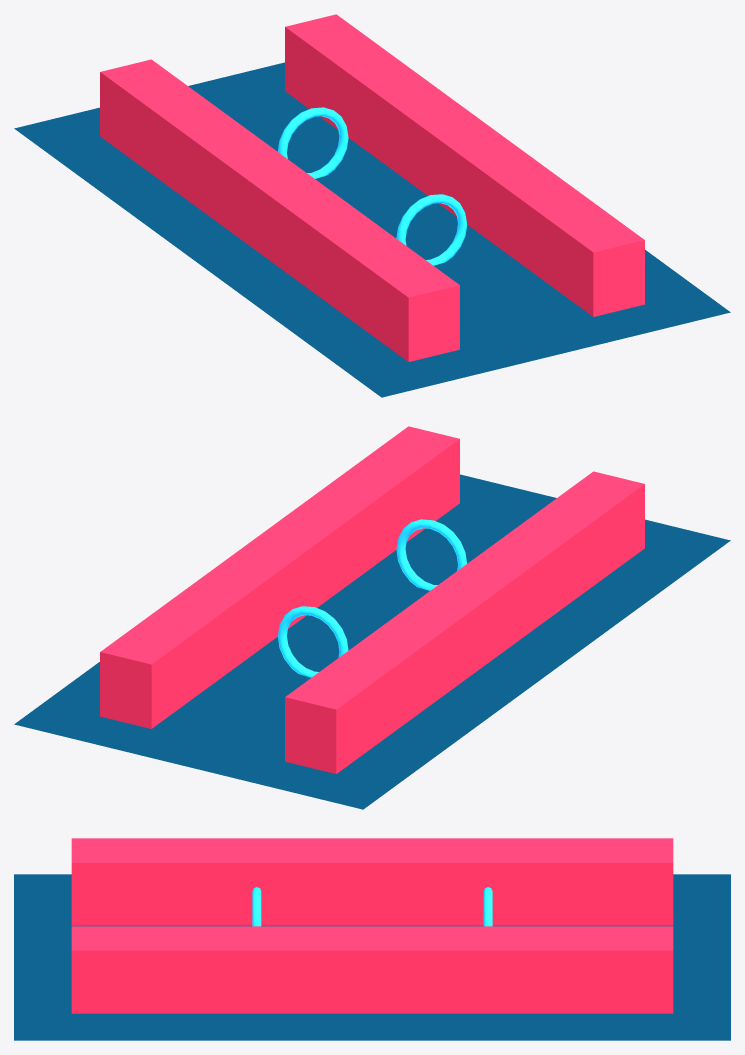
Rendered from atl_04.glb.
The picture shows the model from 3 angles, top to bottom: view 1: azimuth 30°, elevation 25°; view 2: azimuth 150°, elevation 25°; view 3: azimuth 270°, elevation 25°; orthographic projection. The views are drawn at different scales.
Parts seen in each view (by area): view 1: ATL_04, scenario_base_floor; view 2: ATL_04, scenario_base_floor; view 3: ATL_04, scenario_base_floor.
Part boxes in pixels (bbox=[...]): ATL_04: bbox=[100, 14, 644, 361]; scenario_base_floor: bbox=[14, 62, 730, 397]; ATL_04: bbox=[100, 426, 644, 773]; scenario_base_floor: bbox=[14, 474, 730, 809]; ATL_04: bbox=[71, 838, 673, 1013]; scenario_base_floor: bbox=[14, 874, 730, 1040].
Bounding box in the file's own units: 34 × 6.8 × 62.
